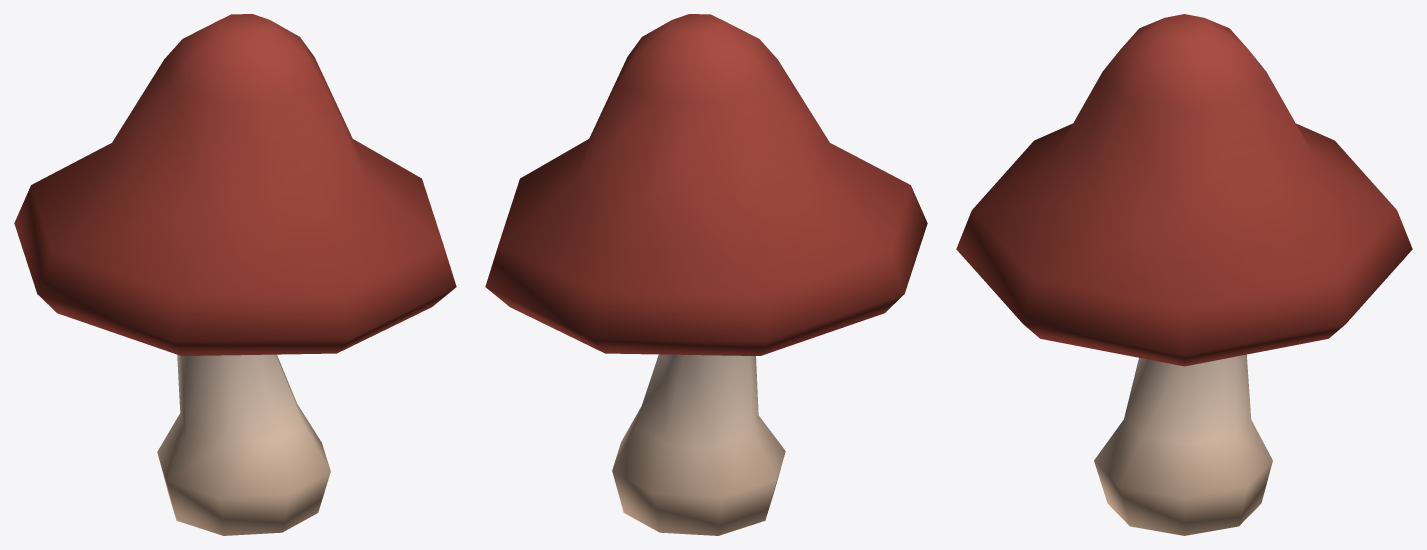
File: Mushroom2_Color2.fbx
3 views of the same model, side by side, from view 1: azimuth 30°, elevation 25°; view 2: azimuth 150°, elevation 25°; view 3: azimuth 270°, elevation 25° (orthographic).
Parts seen in each view (by area): view 1: Mushroom2_Color2; view 2: Mushroom2_Color2; view 3: Mushroom2_Color2.
Boxes of the visible parts, box(x1,y1,x2,y2) form: Mushroom2_Color2: box(14, 14, 456, 535); Mushroom2_Color2: box(485, 14, 927, 535); Mushroom2_Color2: box(956, 14, 1412, 535).
Bounding box in the file's own units: 13.55 × 15.69 × 13.56.
